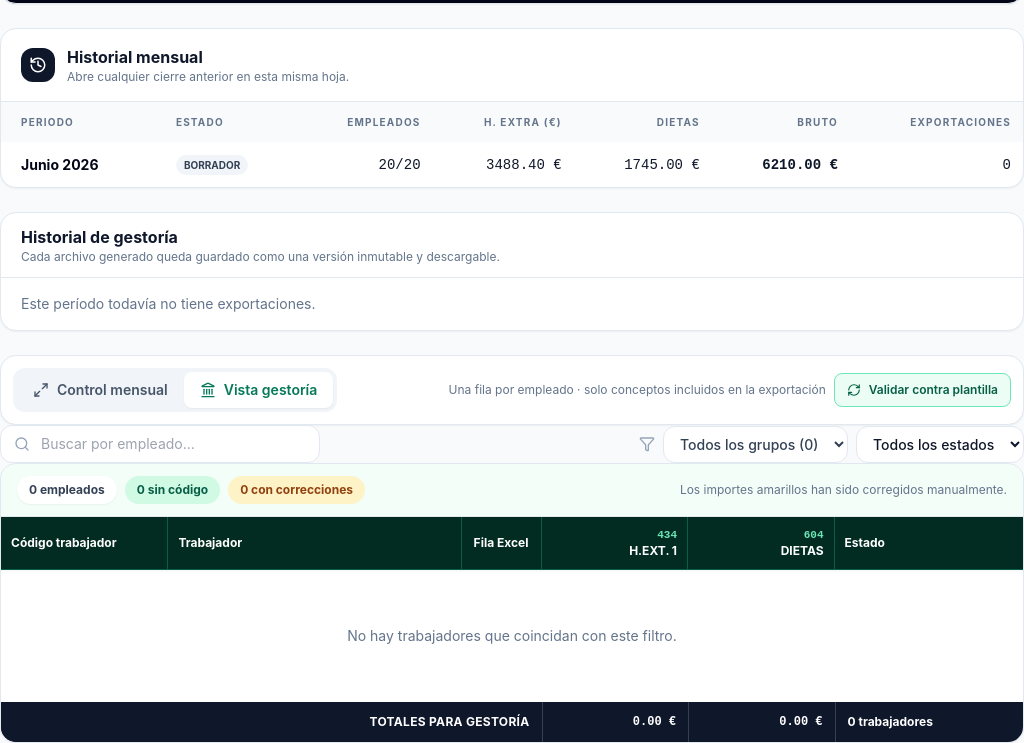
Test case: PayrollControlPage para administrador global › abre el control mensual en un modal de pantalla completa y permite cerrarlo
(page scrolled)
Click the button with aria-label "abrir control mensual" at (100, 390), box [17,372,184,408]
(page scrolled)
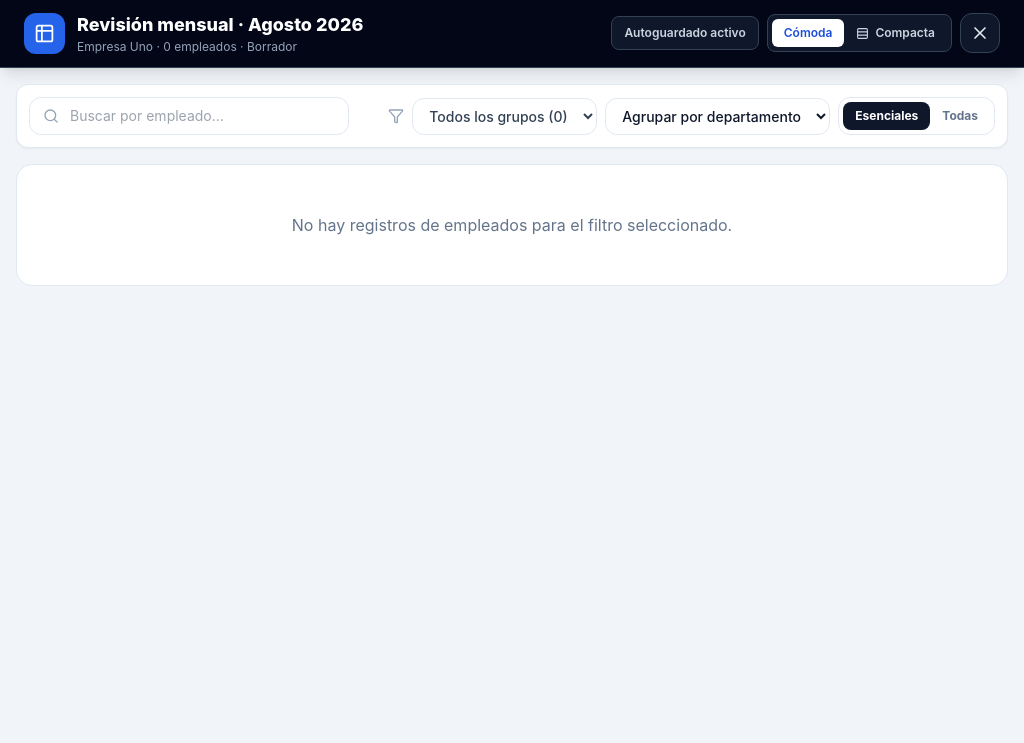
Now the button named "cerrar revisión mensual" is shown, box [960,13,1000,53]
Press Escape
(page scrolled)
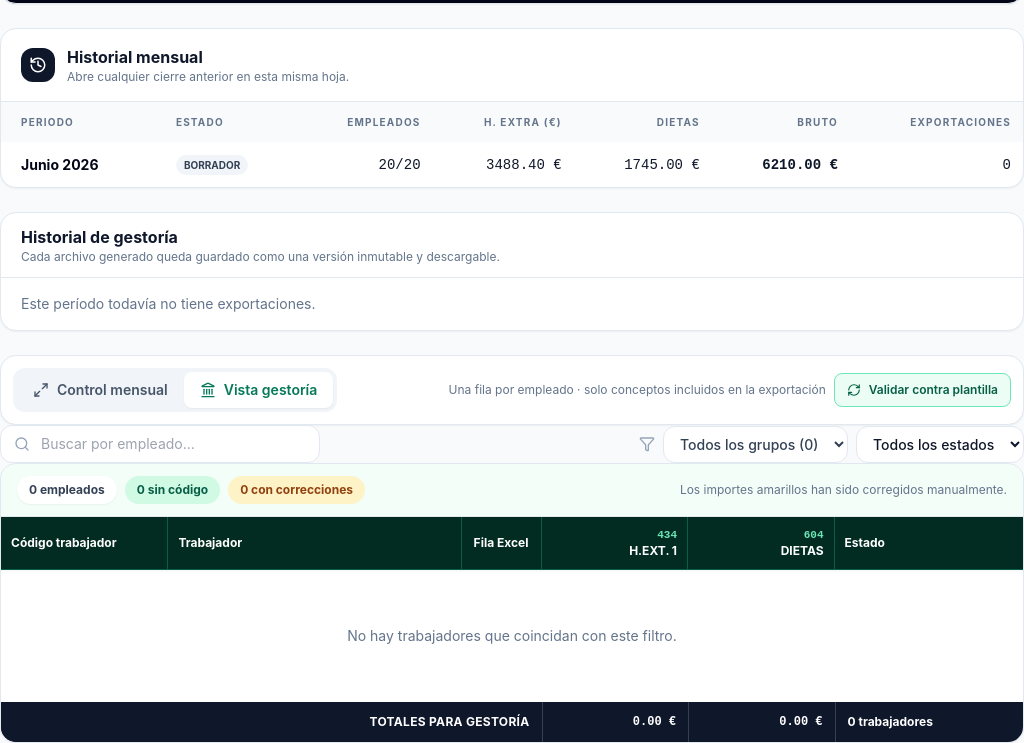
Now the heading "Revisión mensual" is gone
